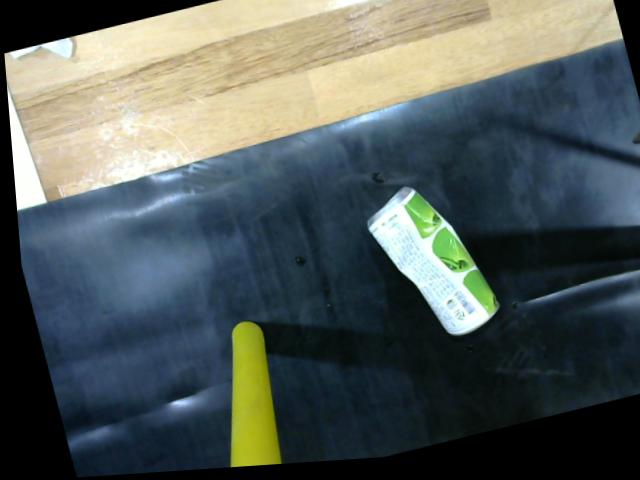can: (355, 184, 500, 346)
